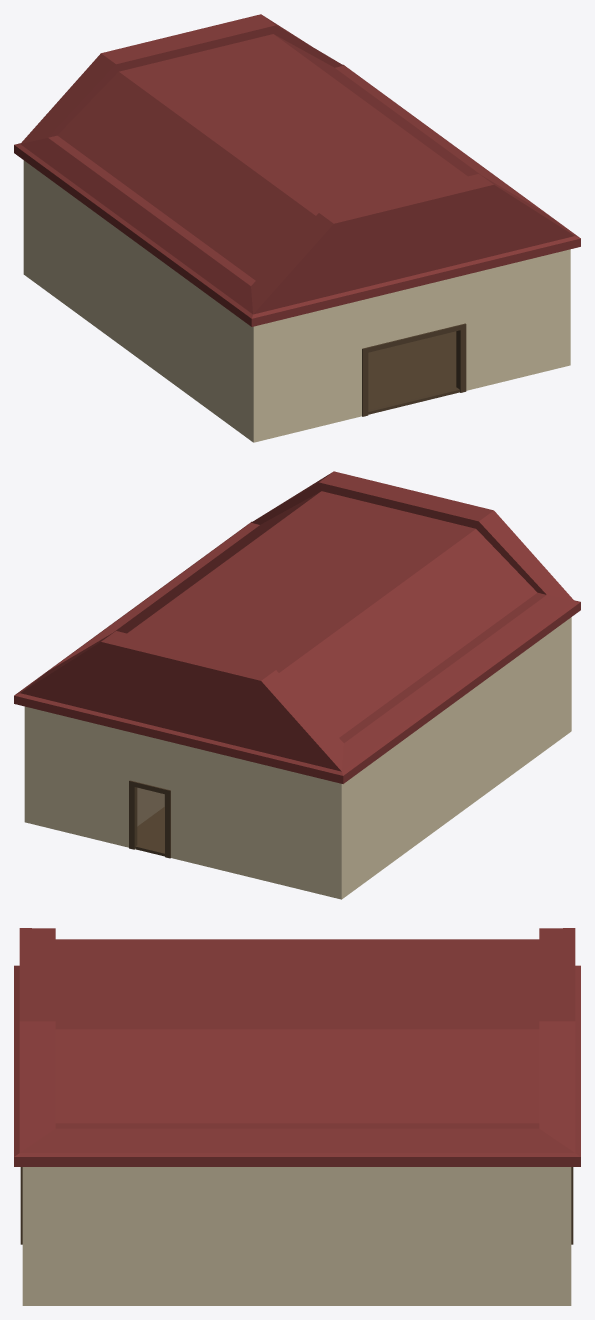
File: Market.fbx
3 renders of one model, top to bottom at view 1: azimuth 30°, elevation 25°; view 2: azimuth 150°, elevation 25°; view 3: azimuth 270°, elevation 25°, orthographic. The views are drawn at different scales.
Parts seen in each view (by area): view 1: Market_Collider; view 2: Market_Collider; view 3: Market_Collider.
Boxes of the visible parts, box(x1,y1,x2,y2) form: Market_Collider: box(14, 14, 580, 442); Market_Collider: box(14, 471, 580, 899); Market_Collider: box(14, 928, 580, 1305).
Size of the model in its own units: 3209 by 1869 by 4014.
1 material, 1 textured.
